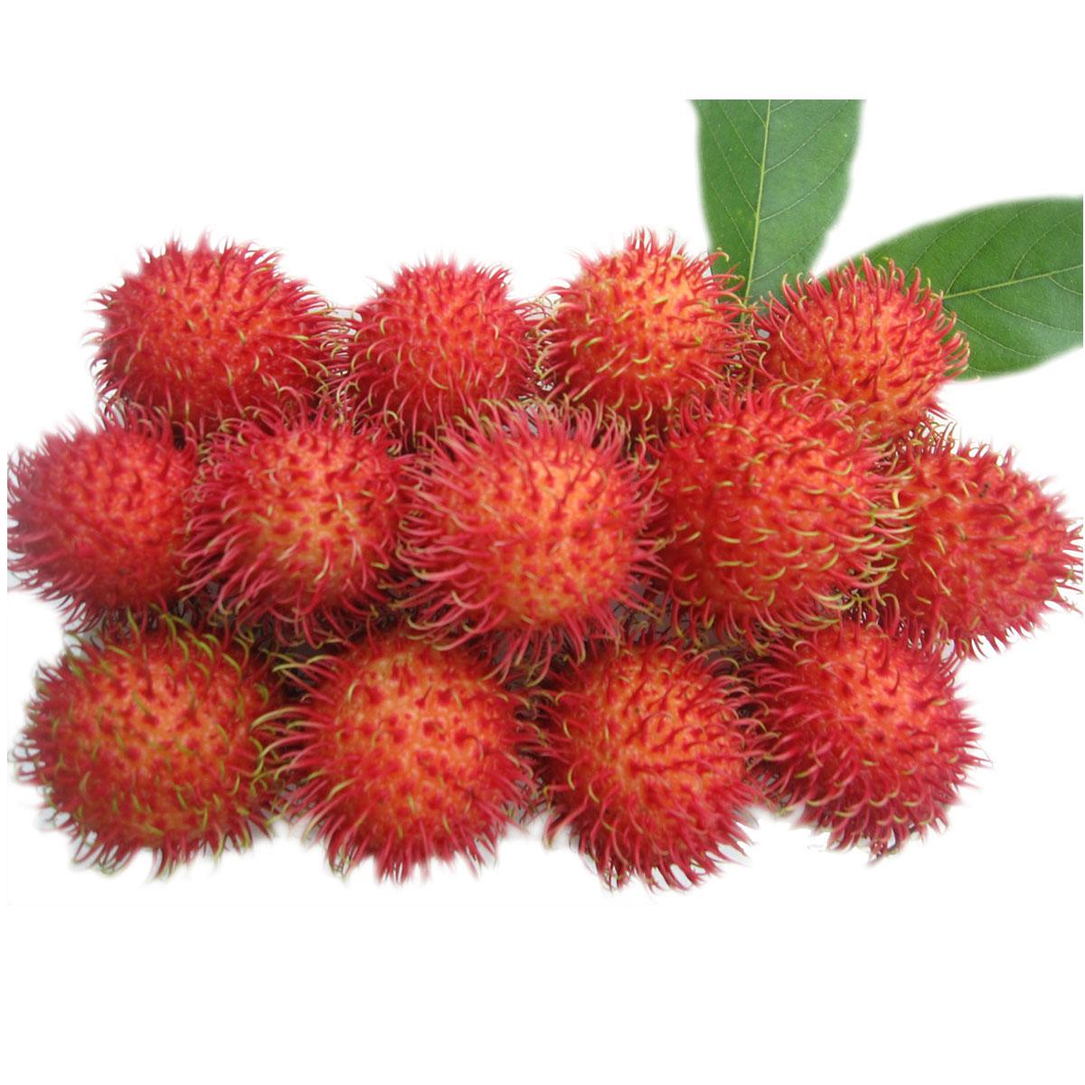chom_chom: (19, 627, 289, 871), (652, 377, 901, 637), (405, 401, 658, 656), (290, 627, 532, 883), (544, 649, 759, 888), (200, 404, 404, 642)
